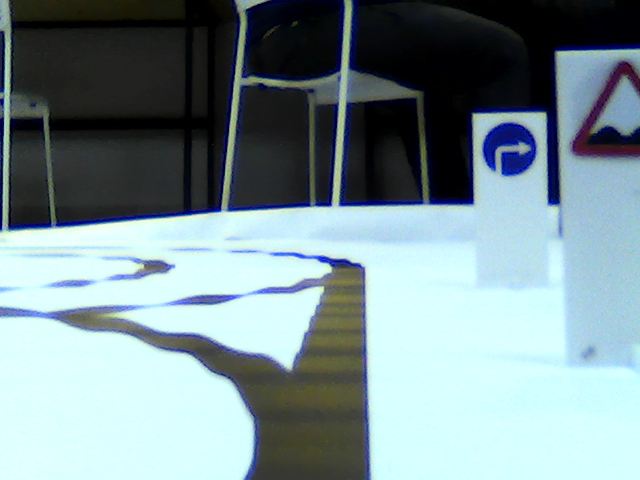Nerov: (573, 60, 638, 160)
Right: (481, 121, 538, 175)
